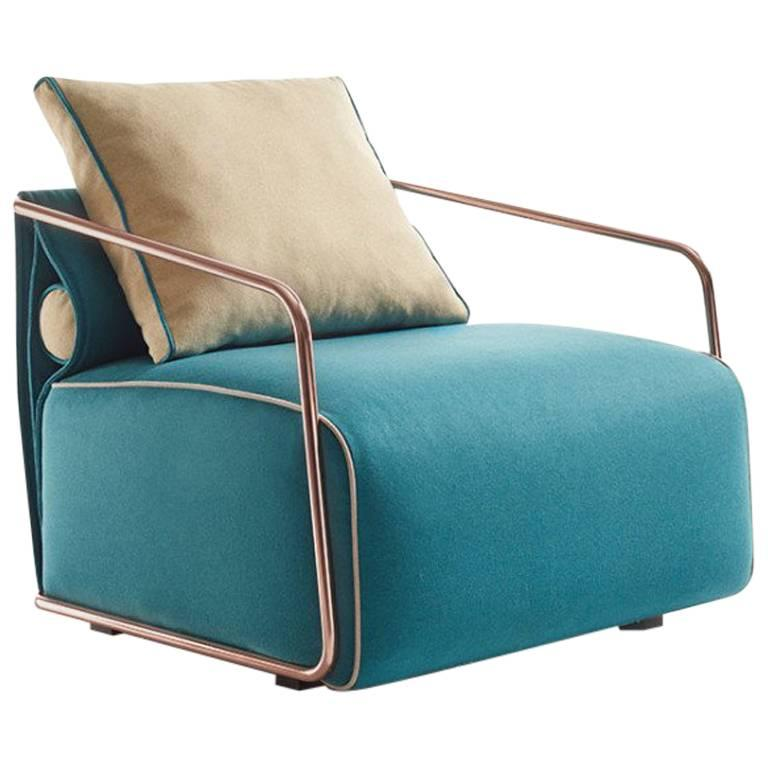chairs: (1, 70, 749, 694)
